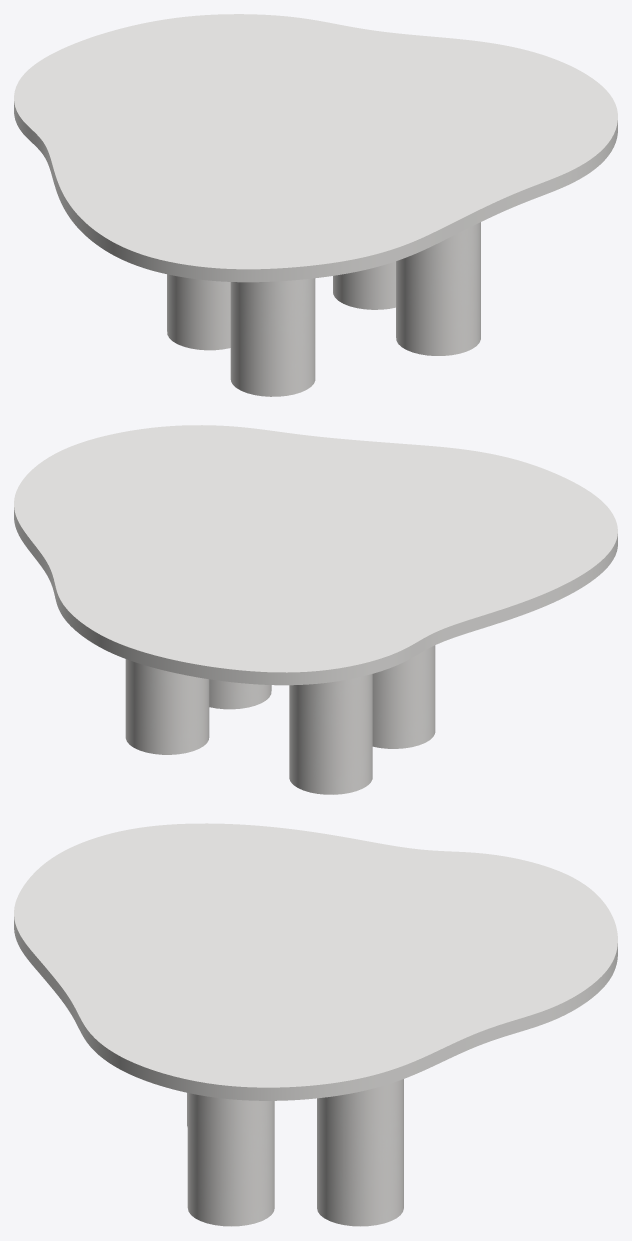
File: purewhite_topone_standard_grove.glb
3 views of the same model, one above another, from view 1: azimuth 30°, elevation 25°; view 2: azimuth 150°, elevation 25°; view 3: azimuth 270°, elevation 25° (orthographic). The views are drawn at different scales.
Visible parts, largest first — view 1: standard_topone, grove; view 2: standard_topone, grove; view 3: standard_topone, grove.
Part boxes in pixels (box(x1,y1,x2,y2)): standard_topone: box(14, 14, 617, 282); grove: box(167, 222, 480, 396); standard_topone: box(14, 425, 617, 685); grove: box(125, 645, 435, 794); standard_topone: box(14, 823, 617, 1100); grove: box(187, 1079, 403, 1226).
Size of the model in its own units: 6.83 by 2.5 by 6.6.
1 material, 1 textured.
